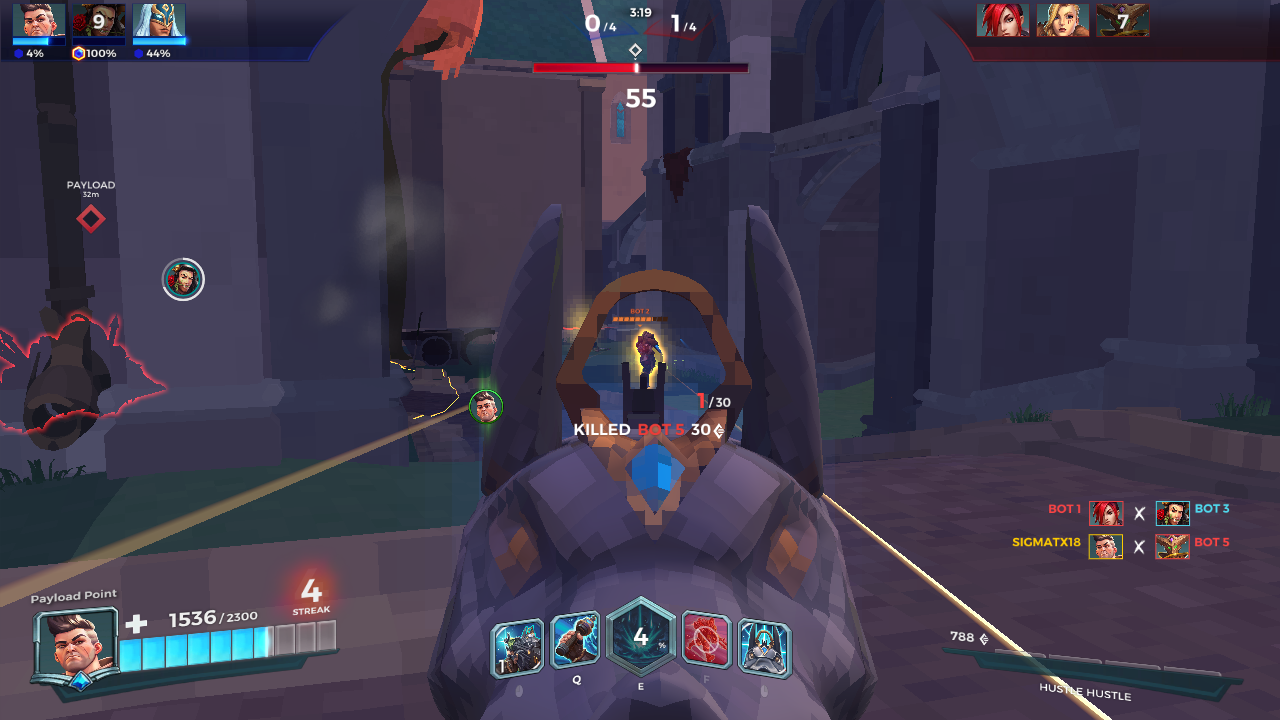model: (632, 329, 658, 387)
